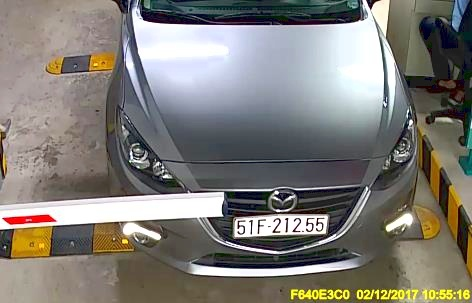plate: (231, 212, 333, 240)
